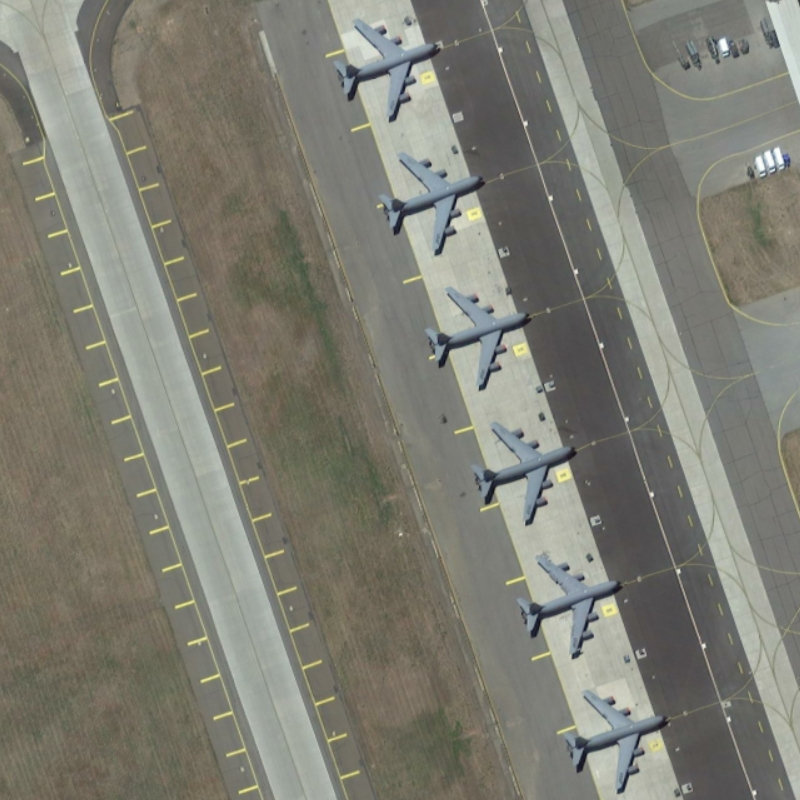A14: (509, 539, 640, 664), (321, 12, 454, 128), (465, 412, 586, 532), (374, 145, 499, 255), (556, 685, 682, 794), (422, 277, 537, 395)
